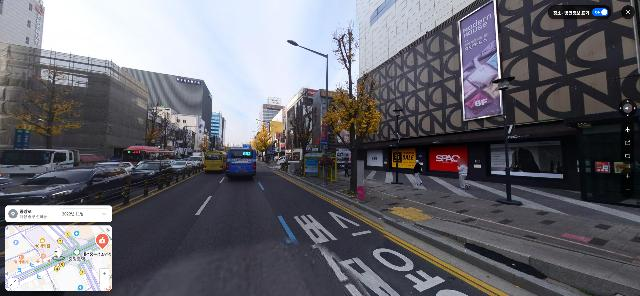ginkgo: (319, 23, 385, 194), (22, 63, 86, 149), (296, 97, 319, 165), (287, 106, 307, 168), (143, 100, 167, 149), (259, 123, 273, 164), (253, 125, 268, 163), (198, 131, 213, 153)
other: (160, 109, 175, 152), (171, 119, 186, 157)
